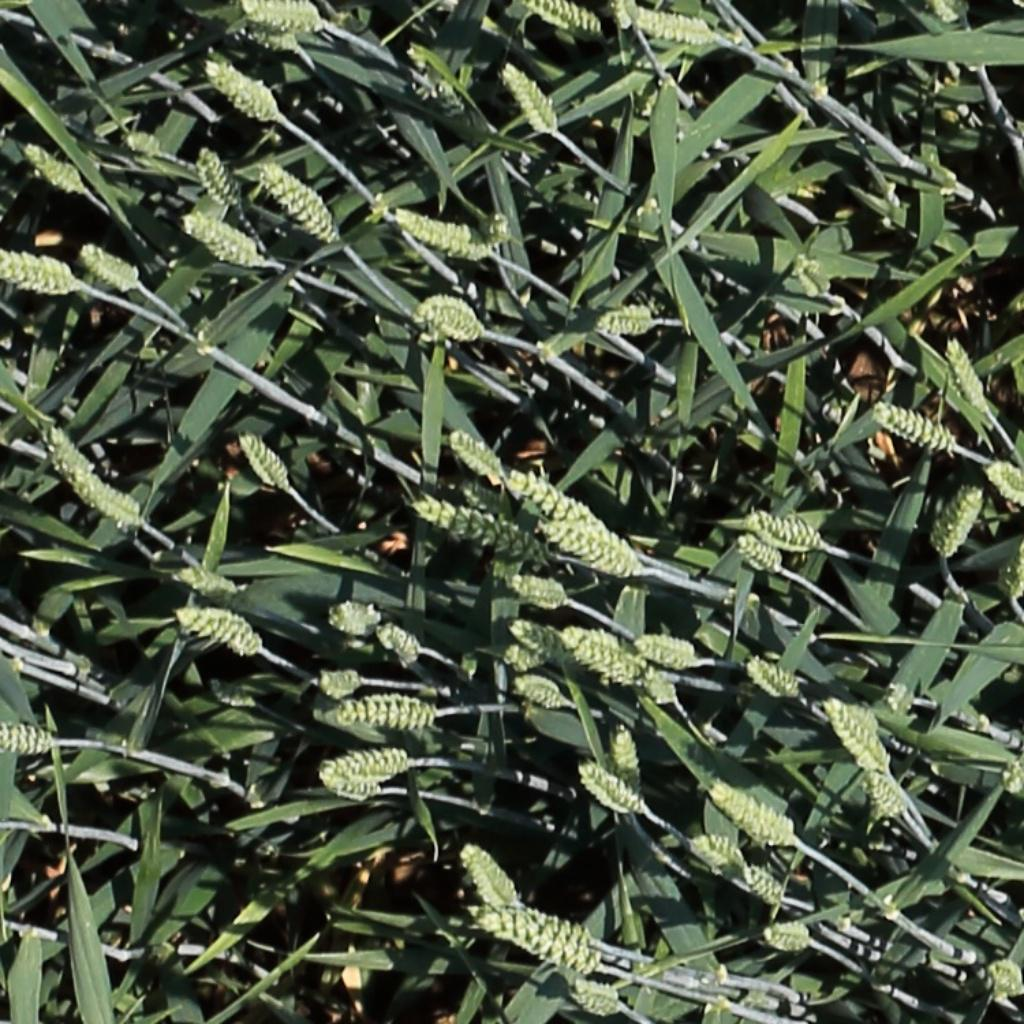0-0: (505, 468, 626, 547), (466, 901, 602, 971), (565, 632, 678, 701), (415, 498, 542, 559), (371, 204, 488, 270), (704, 772, 799, 847), (168, 597, 272, 664), (258, 157, 339, 241), (819, 692, 895, 779), (318, 688, 437, 740), (865, 399, 958, 459), (499, 58, 563, 140), (544, 522, 640, 576), (460, 841, 524, 920), (740, 504, 832, 557), (203, 58, 279, 122), (931, 479, 987, 563), (634, 9, 725, 60), (40, 417, 96, 499), (0, 247, 79, 305), (181, 211, 264, 266), (942, 330, 993, 419), (449, 428, 512, 499), (236, 425, 296, 496), (324, 739, 419, 783), (416, 290, 484, 349), (69, 475, 146, 527), (677, 822, 745, 880), (784, 242, 841, 310), (192, 139, 243, 212), (578, 764, 647, 817), (561, 966, 632, 1017), (586, 297, 664, 343), (21, 139, 86, 192), (0, 708, 66, 760), (374, 620, 434, 676), (626, 627, 702, 670), (506, 668, 576, 714), (861, 764, 912, 826), (323, 592, 387, 641), (478, 199, 533, 253), (742, 651, 798, 703), (529, 1, 607, 38), (507, 574, 579, 614), (736, 527, 790, 580), (77, 244, 140, 288), (488, 637, 553, 678), (508, 615, 572, 656), (757, 919, 814, 965), (427, 70, 474, 125), (320, 770, 388, 808), (310, 660, 371, 699), (240, 21, 307, 56), (613, 723, 644, 798), (975, 961, 1024, 1005), (877, 678, 920, 727), (983, 461, 1024, 510), (243, 1, 320, 27), (744, 865, 790, 907), (178, 567, 241, 596), (117, 127, 163, 163), (208, 679, 258, 709), (611, 0, 638, 38), (931, 0, 965, 27)
